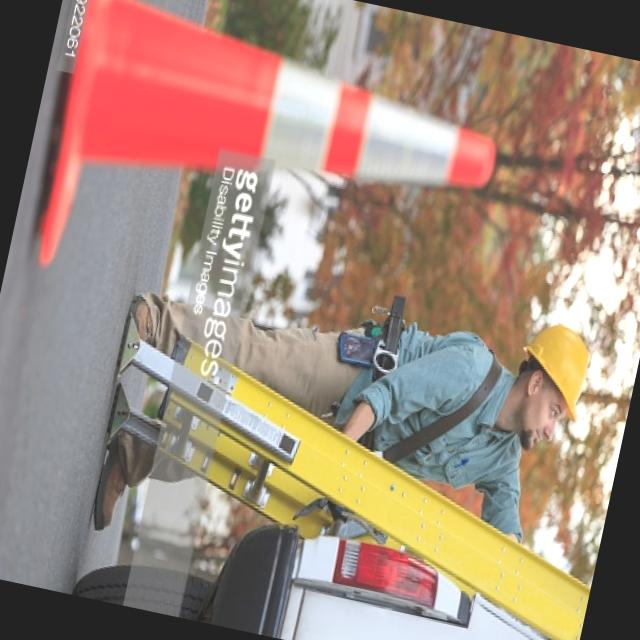cone: (27, 0, 541, 328)
